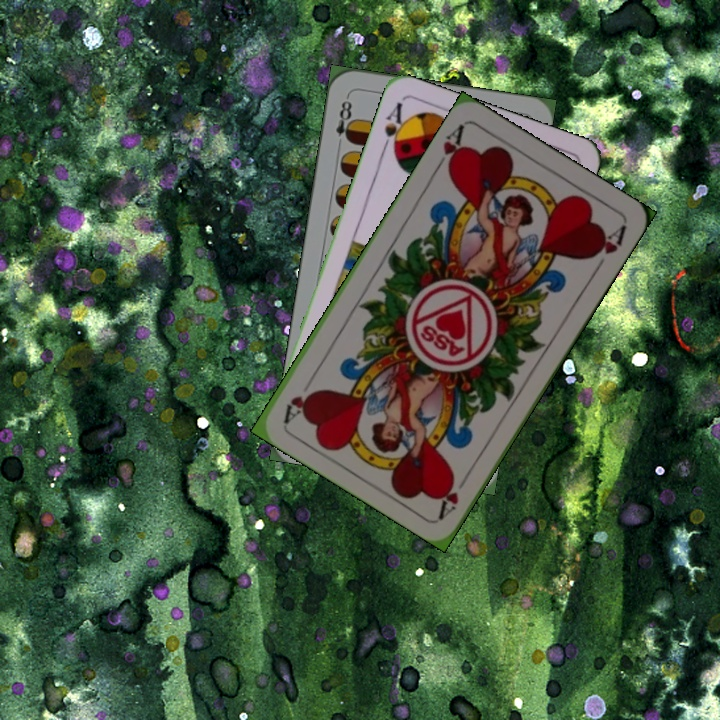E8: (331, 92, 357, 150)
HA: (430, 120, 468, 176), (435, 467, 474, 520)
SA: (377, 98, 410, 159)
